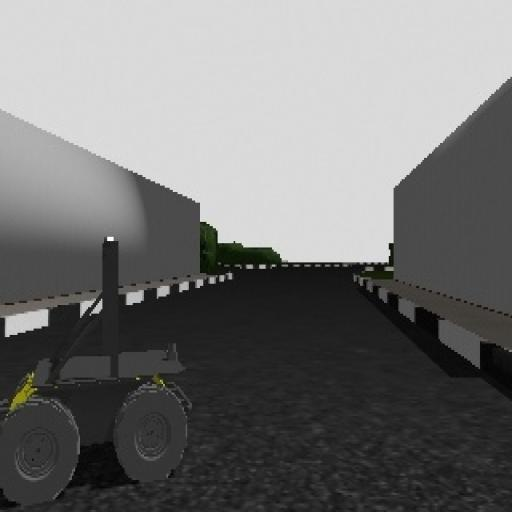huskya200: (2, 225, 200, 512)
